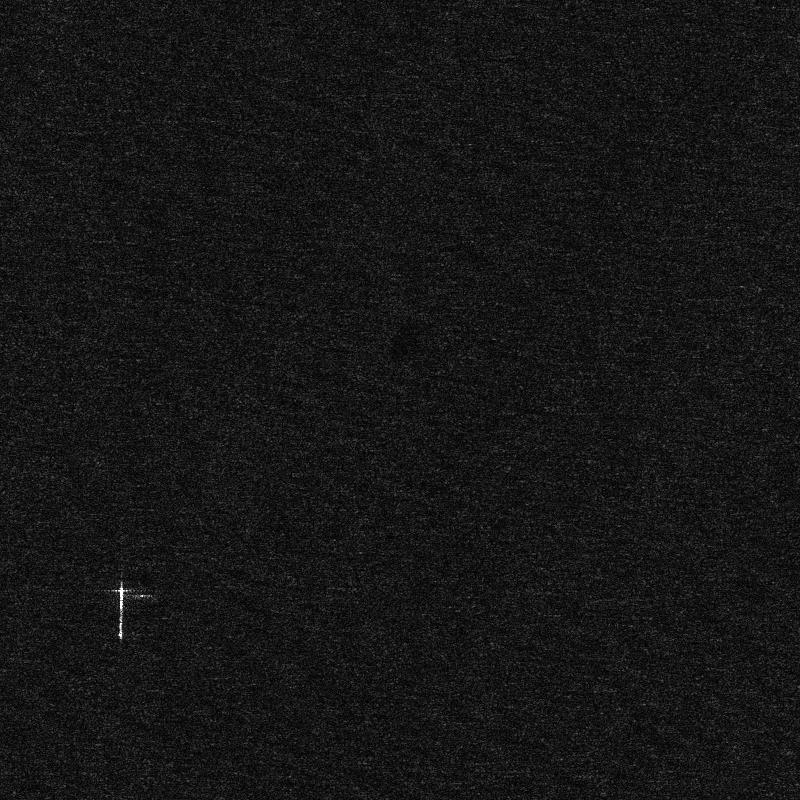ship: (118, 587, 124, 640)
